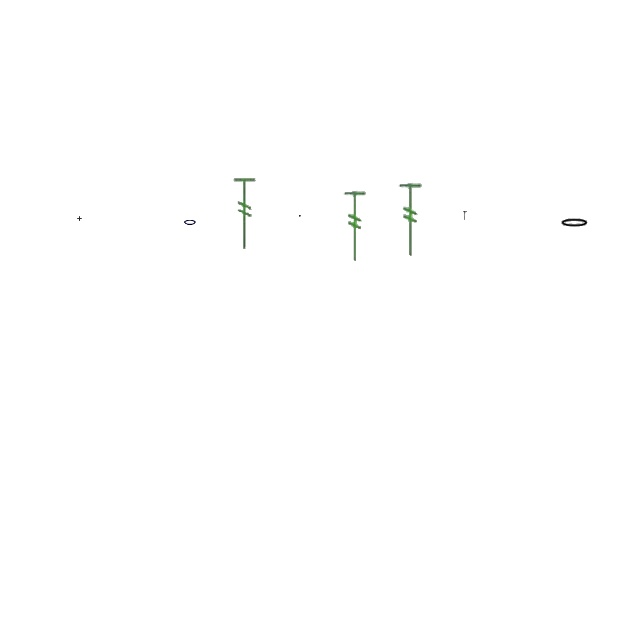chain: (560, 217, 590, 229), (183, 217, 197, 227), (299, 215, 301, 217)
double: (78, 216, 82, 222)
double treble: (463, 212, 467, 220)
fan: (231, 176, 259, 252), (397, 182, 423, 258), (342, 190, 368, 264)
